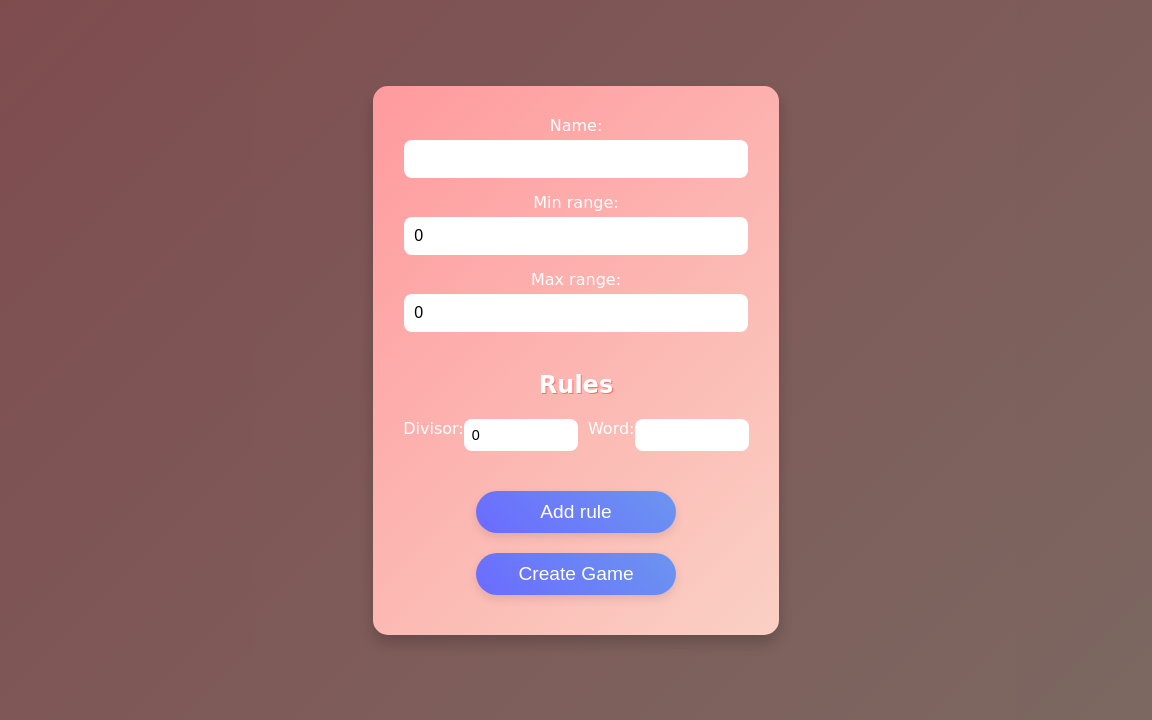
Test case: GameModal › adds a new rule when "Add rule" button is clicked
What coordinates should you click on to do the following:
click the button "Add rule"
I would click on:
 (576, 512)
Its box is [476,490,676,532].
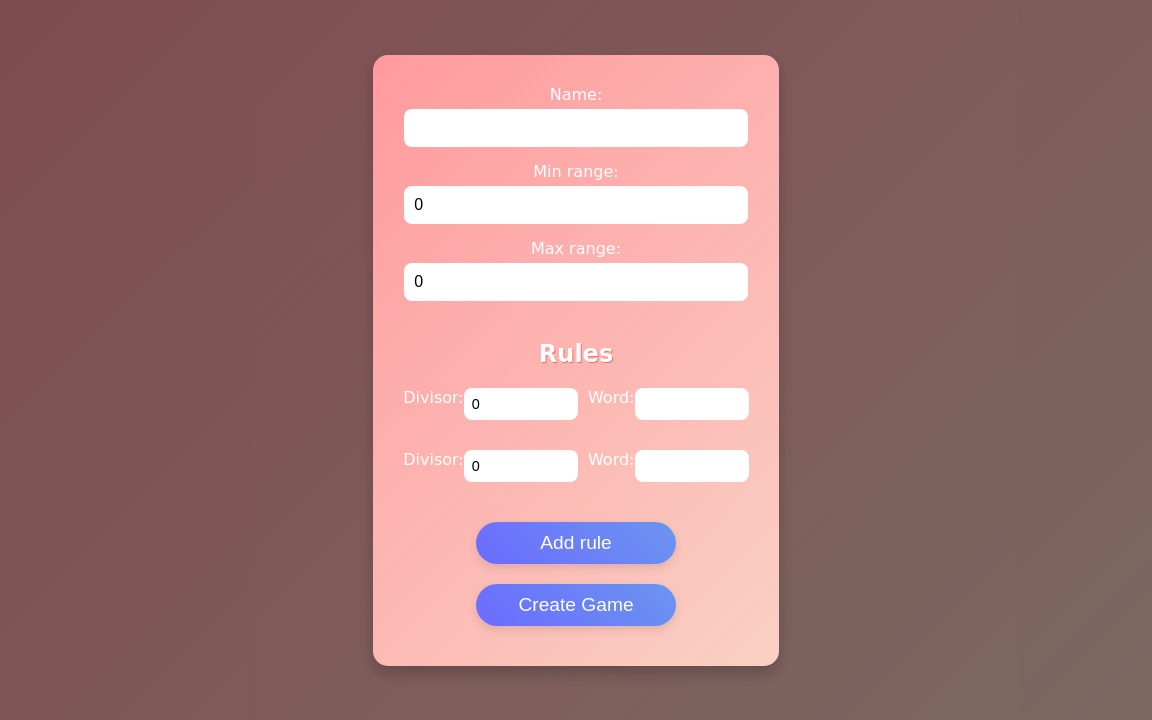
Expected: the number of number fields labelled "Divisor:" is 2, [464,388,578,420]; [464,450,578,482]
Expected: the number of fields labelled "Word:" is 2, [634,388,749,420]; [634,450,749,482]
